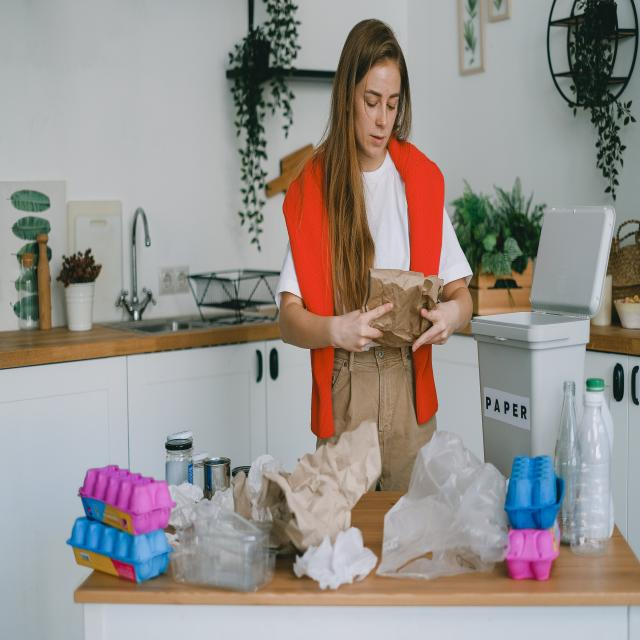cardboard: (293, 457, 353, 532), (377, 272, 427, 344)
plastic: (91, 482, 156, 577), (572, 398, 610, 543), (516, 475, 559, 571)
